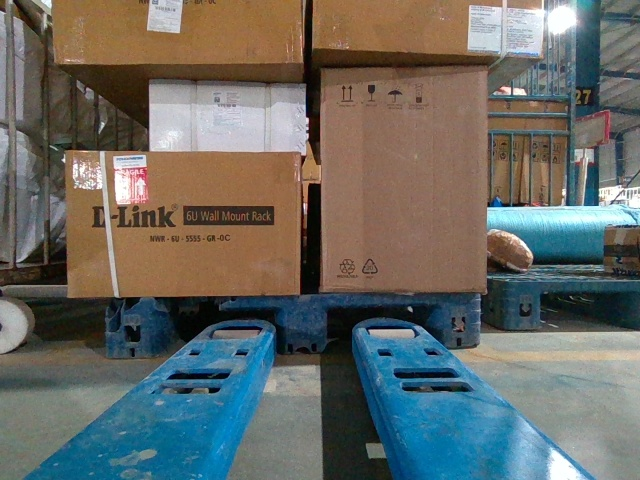block: (104, 297, 159, 359), (279, 292, 329, 354), (440, 292, 481, 350), (505, 276, 540, 332)
front: (112, 291, 481, 357)
hole pallet: (156, 302, 285, 358), (325, 298, 447, 353), (537, 286, 639, 334)
